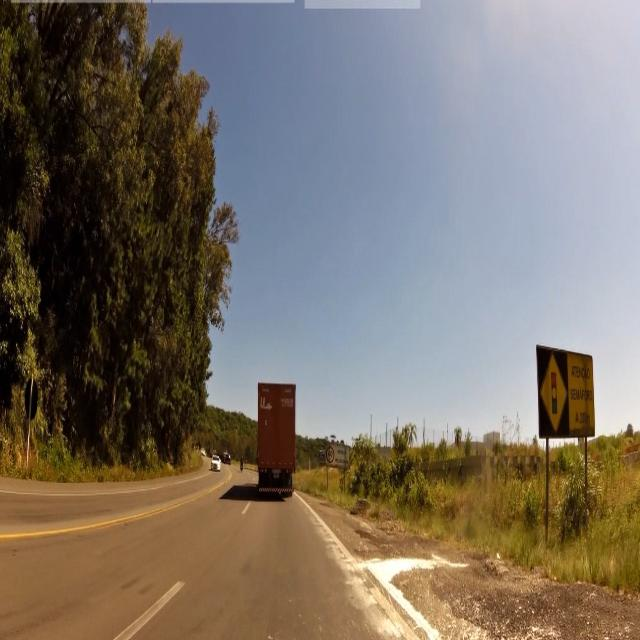A-14: (541, 351, 568, 439)
